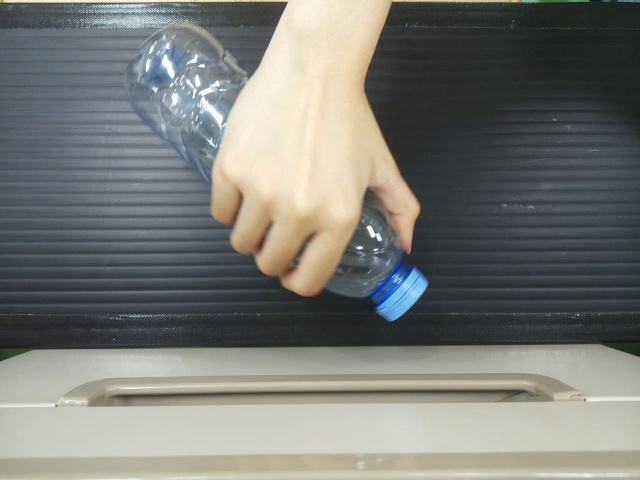bottle: (118, 4, 246, 178), (324, 194, 435, 336)
